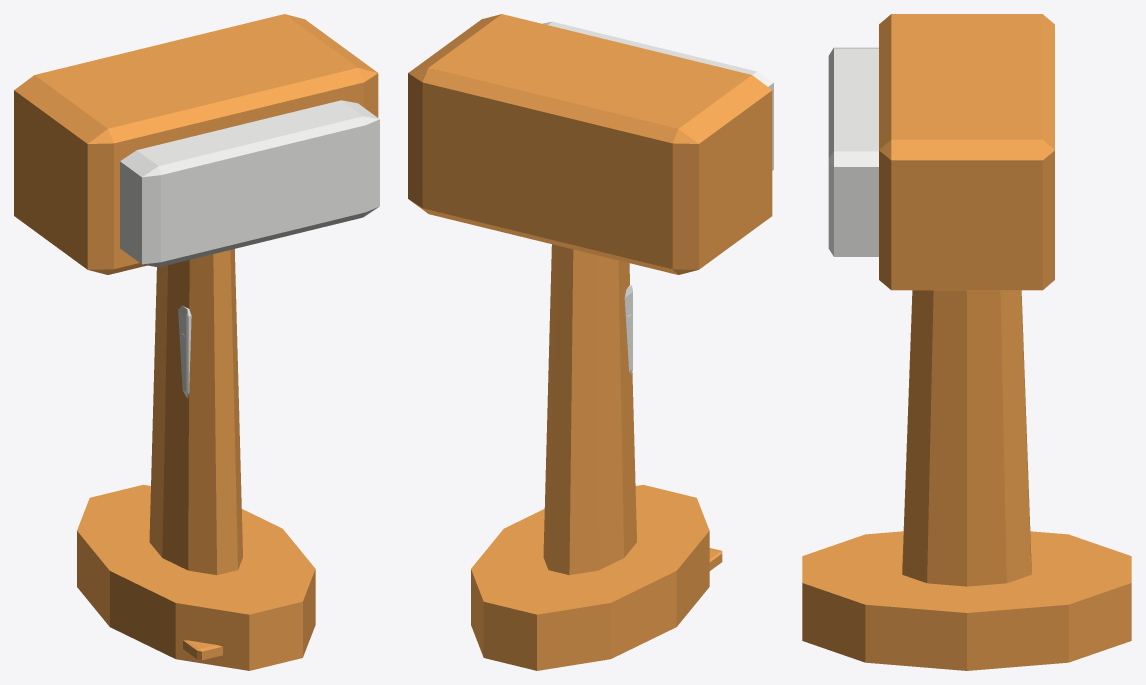
The model's file is b02_construction_traffic_barrel.glb.
3 renders of one model, left to right at view 1: azimuth 30°, elevation 25°; view 2: azimuth 150°, elevation 25°; view 3: azimuth 270°, elevation 25°, orthographic. The views are drawn at different scales.
Visible parts, largest first — view 1: b02_construction_traffic_barrel; view 2: b02_construction_traffic_barrel; view 3: b02_construction_traffic_barrel.
Boxes of the visible parts, box(x1,y1,x2,y2) form: b02_construction_traffic_barrel: box(14, 14, 379, 670); b02_construction_traffic_barrel: box(408, 14, 773, 670); b02_construction_traffic_barrel: box(802, 14, 1131, 670).
Bounding box in the file's own units: 0.74 × 1.3 × 0.704.
